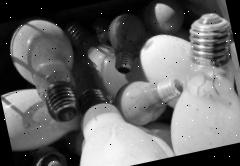lightbulb: (0, 0, 240, 166), (145, 9, 240, 156), (3, 11, 86, 130), (63, 90, 173, 166), (0, 78, 84, 154)
